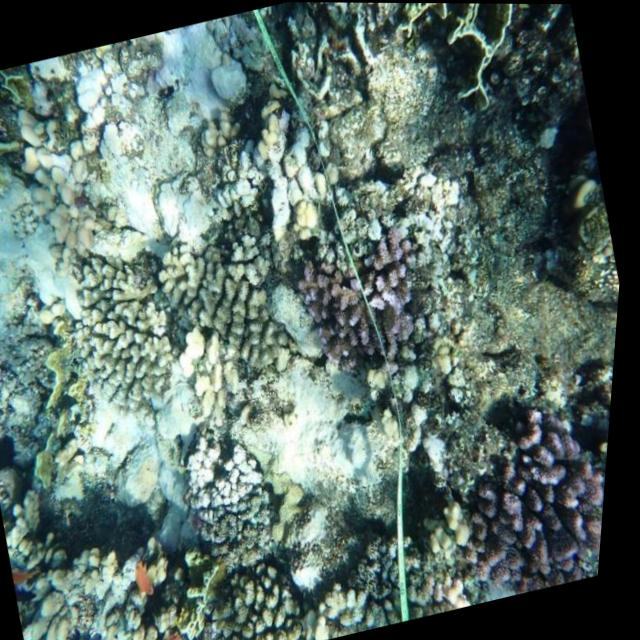Bleached Coral: (129, 11, 264, 140), (378, 166, 493, 277), (171, 436, 285, 521)
Healthy Coral: (440, 414, 616, 605), (48, 228, 205, 419), (279, 225, 442, 383), (189, 226, 309, 390)
